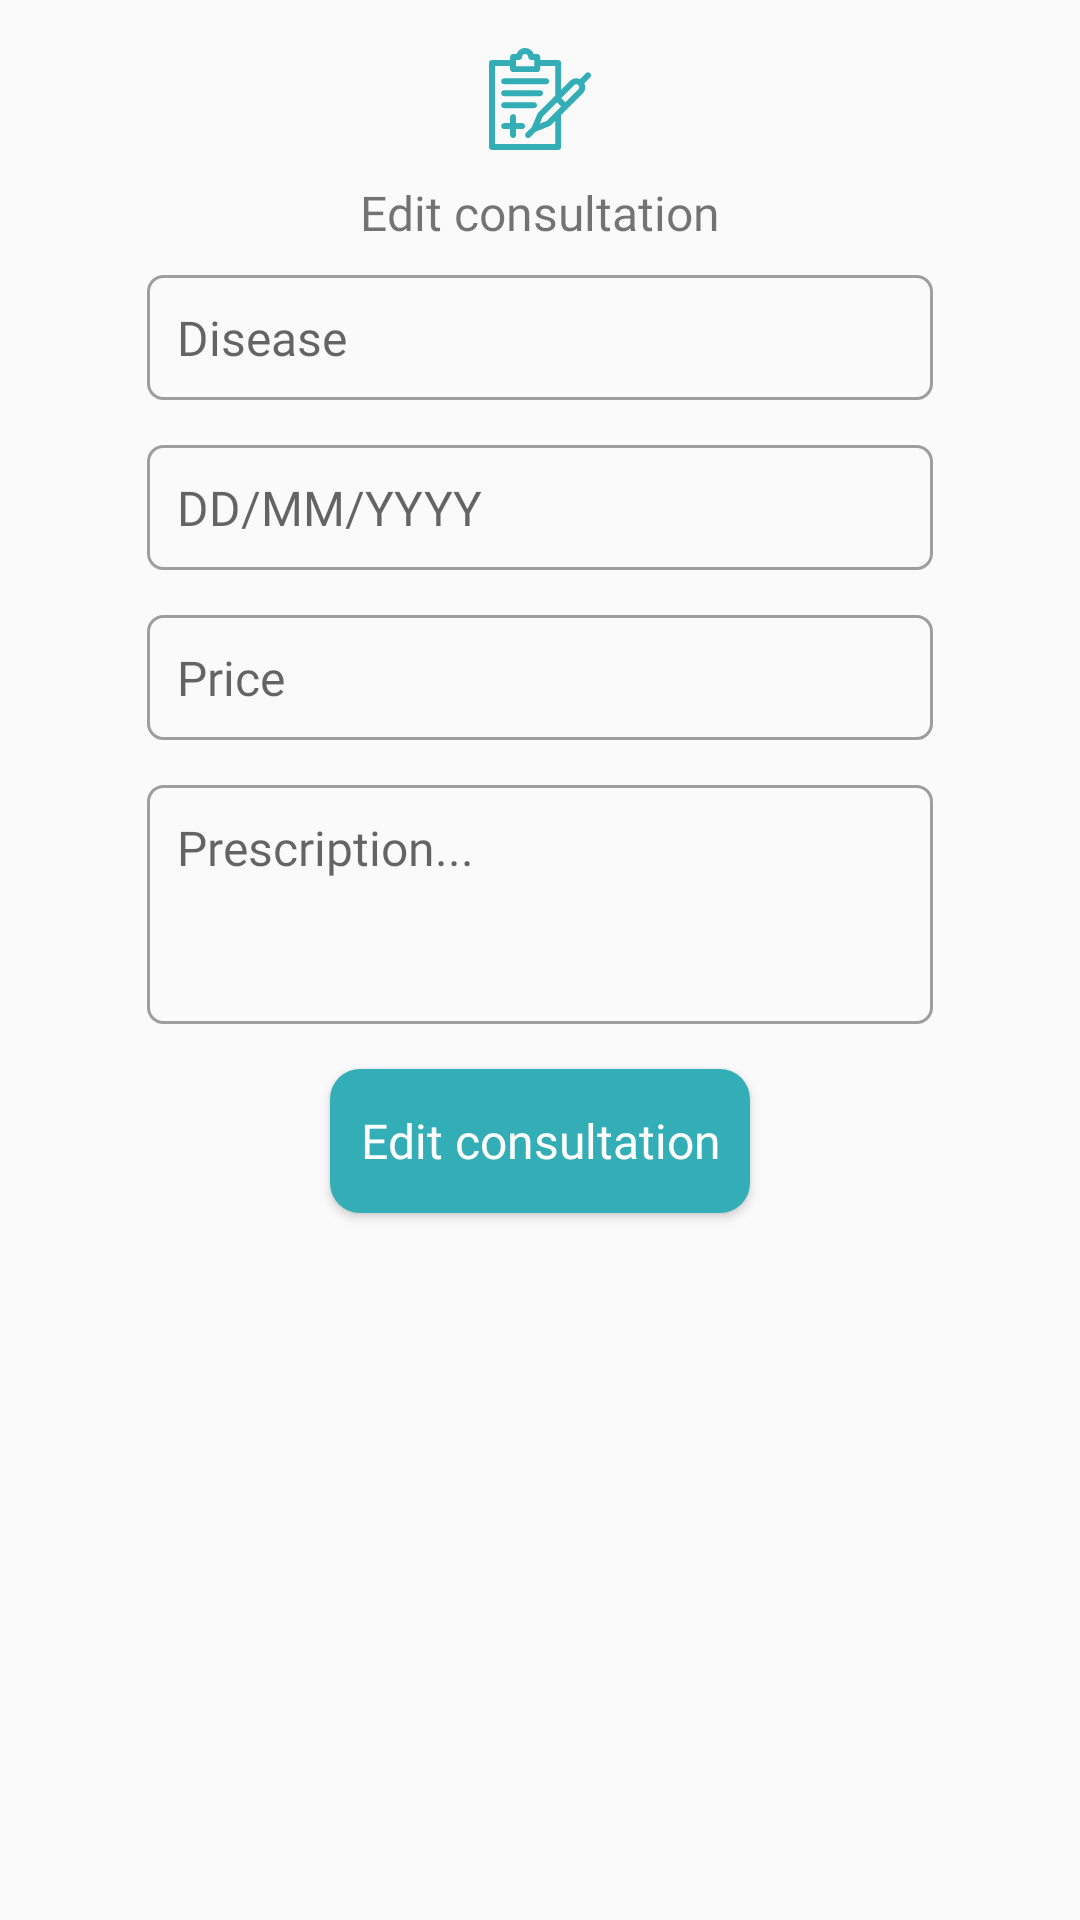

Screen size 1080px x 1920px. Icon name, then its box in pixels as bbox=(x1, y1, x2, y2):
medical history: bbox=(489, 48, 591, 150)
